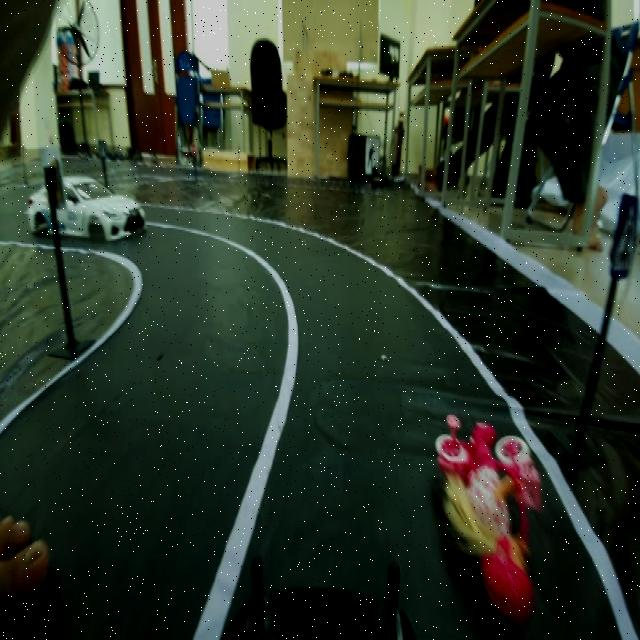crosswalk: (607, 191, 640, 279)
